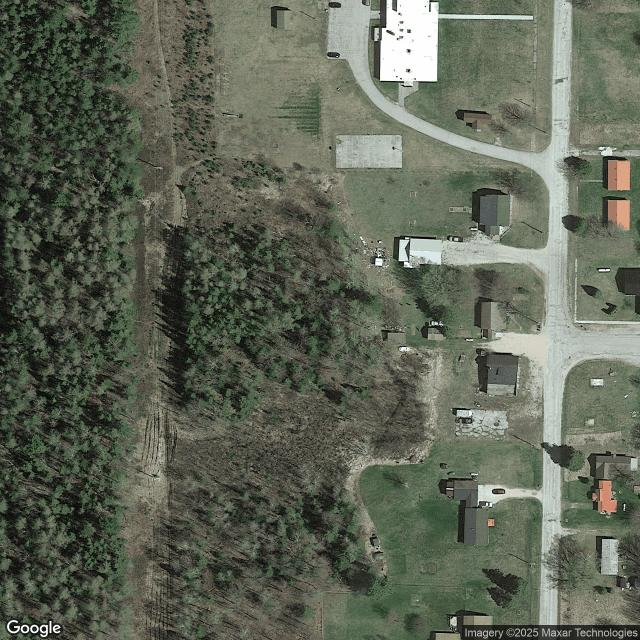Propane: (598, 268, 611, 272), (465, 338, 473, 342), (470, 228, 479, 231), (470, 473, 479, 476), (623, 503, 626, 512)
